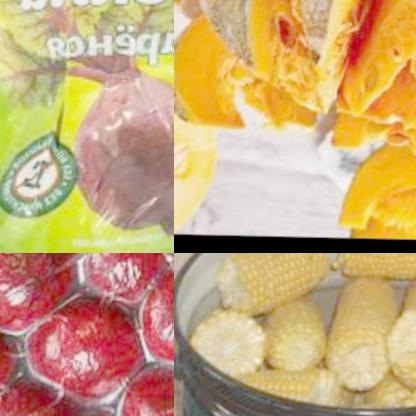beet: (0, 253, 174, 416), (62, 58, 174, 245)
corn: (318, 270, 408, 384), (215, 253, 336, 316), (252, 282, 337, 367), (240, 356, 367, 412), (202, 299, 281, 373), (385, 301, 416, 388), (326, 253, 416, 281)
pumpkin: (174, 14, 312, 136), (188, 0, 334, 111), (174, 34, 235, 234), (332, 8, 416, 149), (275, 0, 367, 116), (346, 0, 416, 117), (343, 132, 416, 239), (335, 80, 416, 172)
